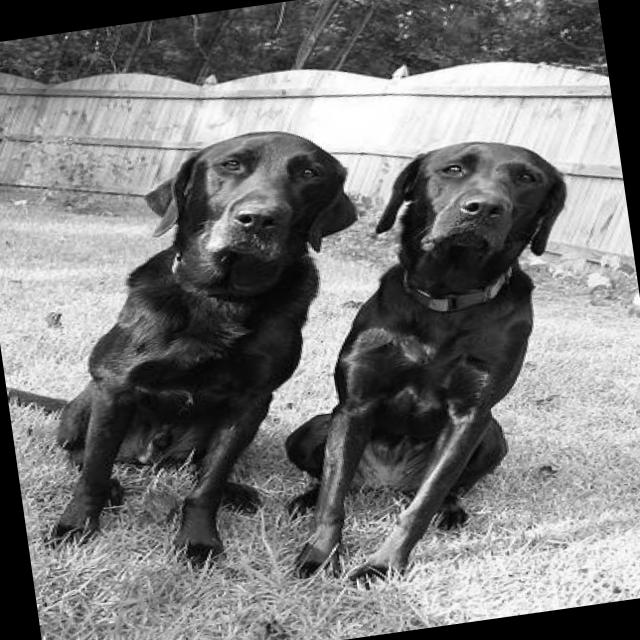sitting: (0, 115, 407, 590), (237, 122, 626, 598)
